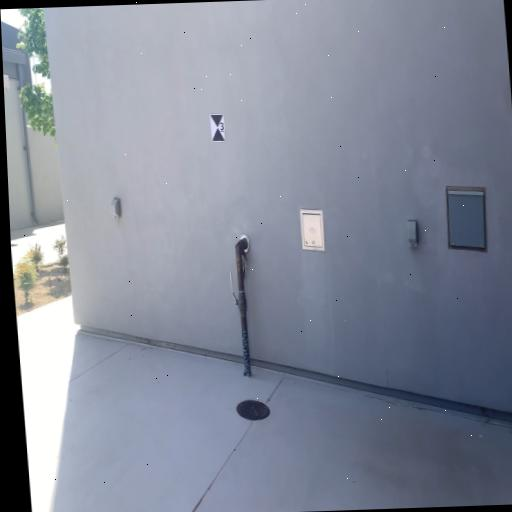target3: (209, 113, 225, 141)
